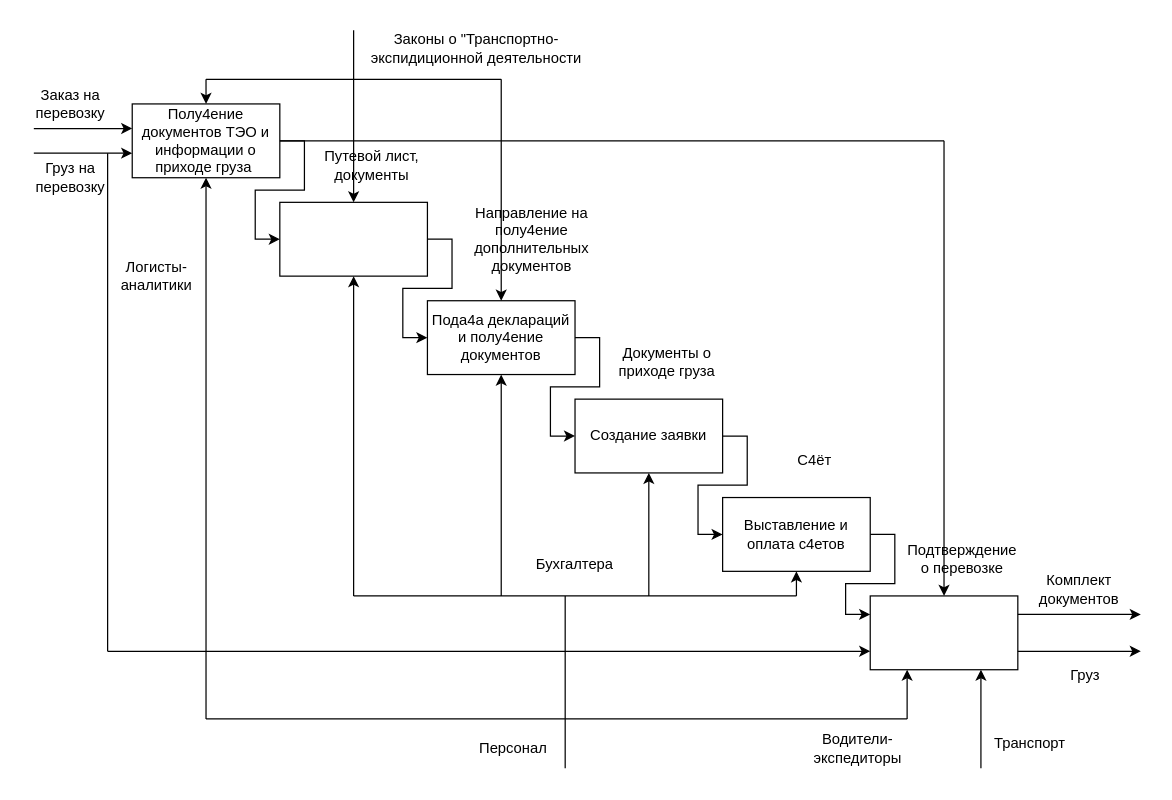
Some shapes in this 1172 by 800 pixel diagram are drawn without their labels. The shapes that lost their labels are listed below. From the top down, each one's centre as x and y in pixels, then its label:
(353,238): Обработка информации и документов ТЭО
(943,632): ТЭО
